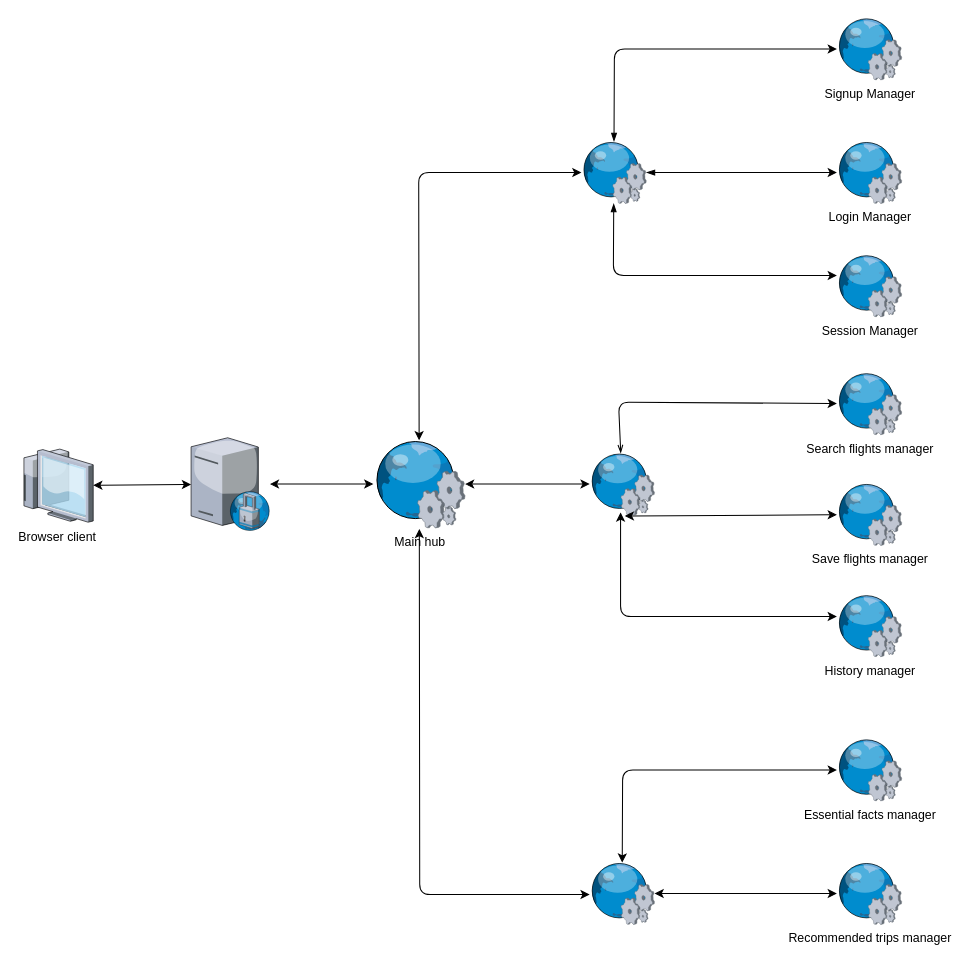
The diagram is 968 pixels wide and 963 high, and some of its shapes have lost their labels. Here are the shapes that lost their labels. From the top down, the centre of each, then its label:
the point at 613,172: Auth Service
the point at 230,483: Proxy web server
the point at 621,483: Flights manager
the point at 621,893: Trips manager
